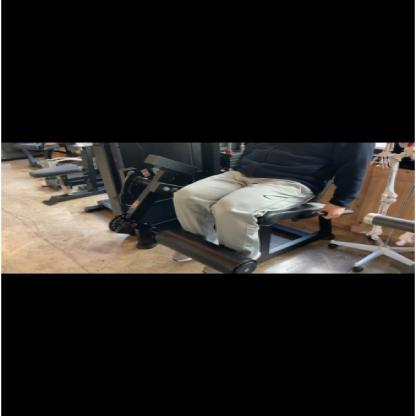leg extension: (69, 139, 389, 272)
